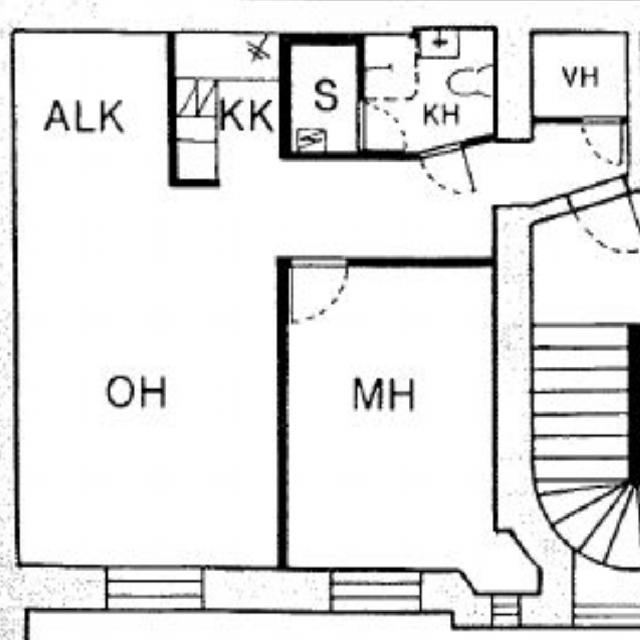door: (566, 175, 640, 272), (292, 258, 348, 330), (420, 130, 461, 183), (583, 118, 619, 163)
